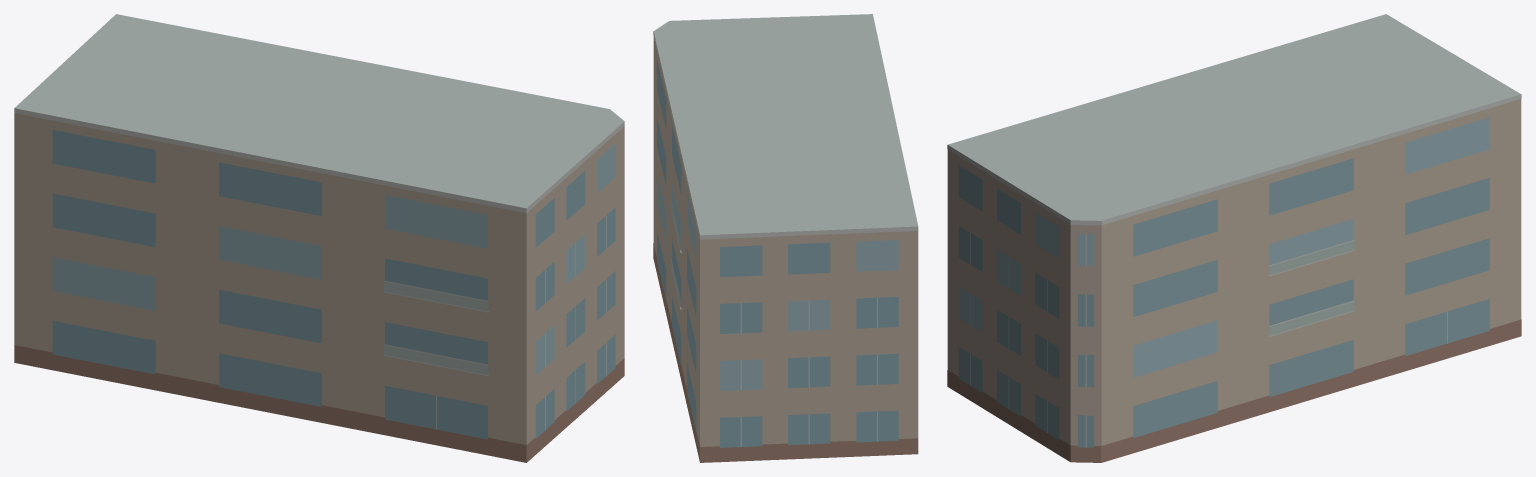
Rendered from survey-upis-32995474.glb.
3 renders of one model, left to right at view 1: azimuth 30°, elevation 25°; view 2: azimuth 150°, elevation 25°; view 3: azimuth 270°, elevation 25°, orthographic. The views are drawn at different scales.
Parts seen in each view (by area): view 1: survey-upis-32995474.tmp; view 2: survey-upis-32995474.tmp; view 3: survey-upis-32995474.tmp.
Boxes of the visible parts, <box> form: survey-upis-32995474.tmp: <box>14,14,624,462</box>; survey-upis-32995474.tmp: <box>653,14,918,462</box>; survey-upis-32995474.tmp: <box>947,14,1521,462</box>.
Bounding box in the file's own units: 23.47 × 12.8 × 27.52.
